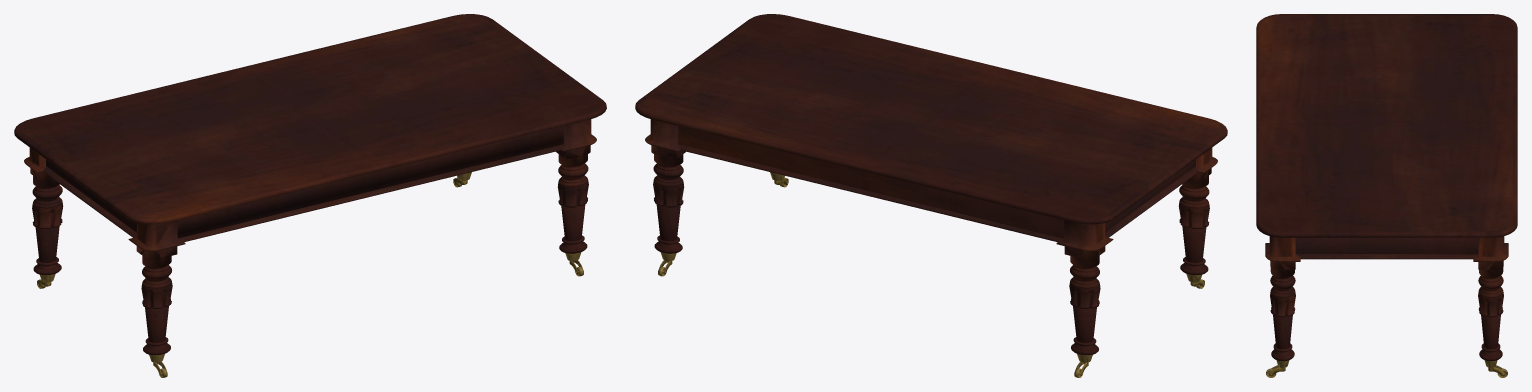
The model's file is lyte-table.glb.
3 views of the same model, side by side, from view 1: azimuth 30°, elevation 25°; view 2: azimuth 150°, elevation 25°; view 3: azimuth 270°, elevation 25° (orthographic). The views are drawn at different scales.
Visible parts, largest first — view 1: lyte-table; view 2: lyte-table; view 3: lyte-table.
Part boxes in pixels (bbox=[...]): lyte-table: bbox=[14, 14, 606, 377]; lyte-table: bbox=[635, 14, 1227, 377]; lyte-table: bbox=[1256, 14, 1517, 377].
Size of the model in its own units: 2.2 by 0.73 by 1.1.
3 materials, 3 textured.
